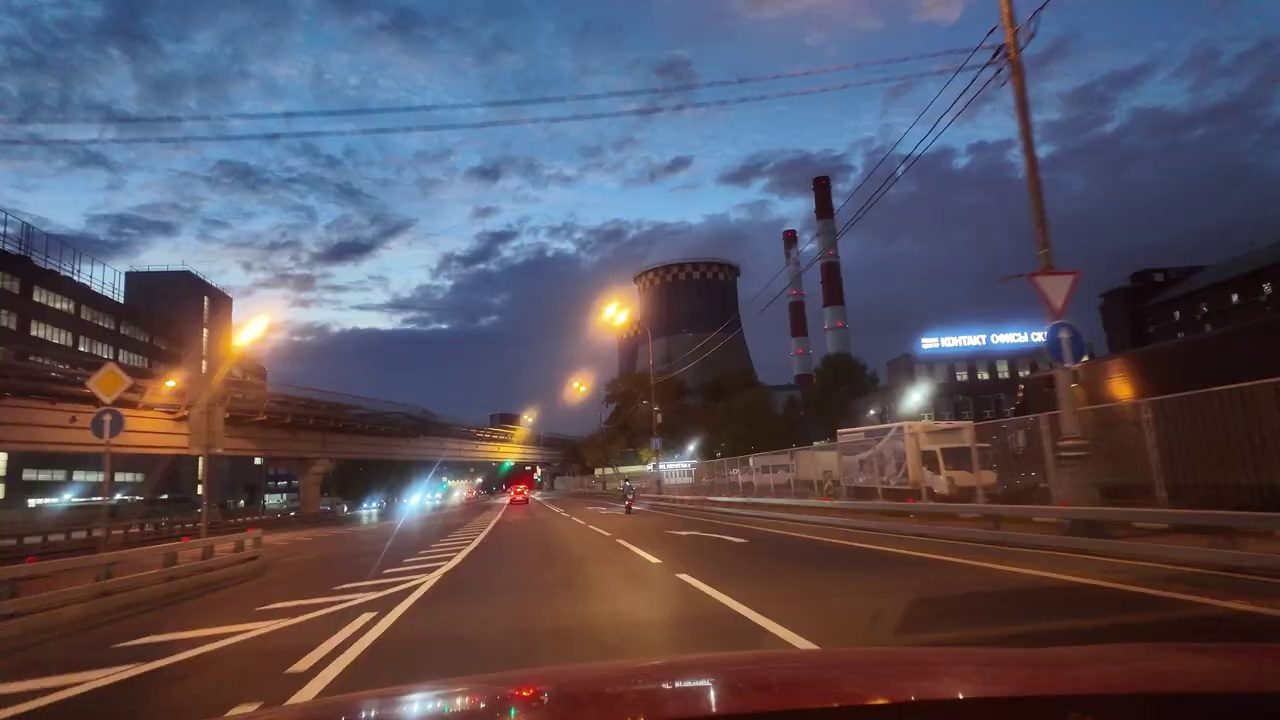acesa: (594, 291, 639, 338), (236, 310, 281, 351), (895, 382, 935, 420), (562, 373, 596, 405)
